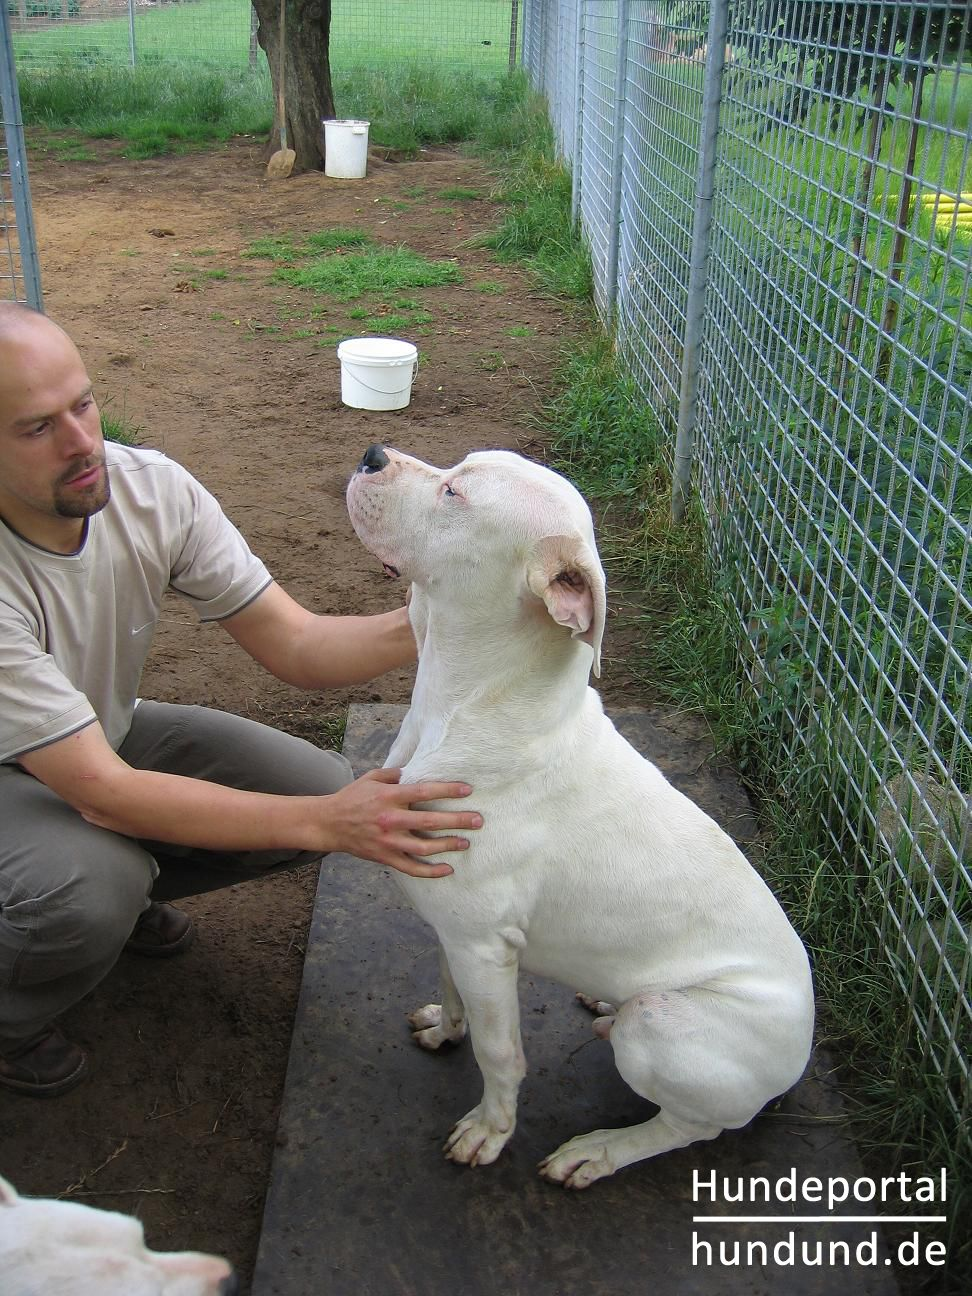dogo_argentino: (343, 440, 817, 1192)
human_face: (0, 324, 114, 520)
person: (1, 301, 484, 1105)
